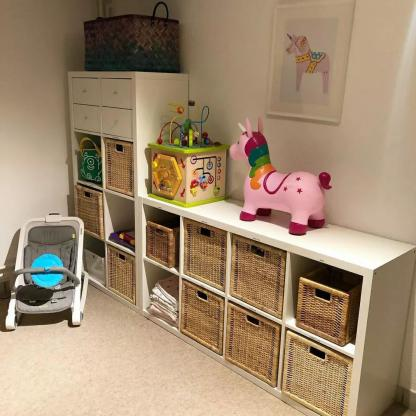lamp: (136, 186, 416, 416), (66, 68, 191, 324)
